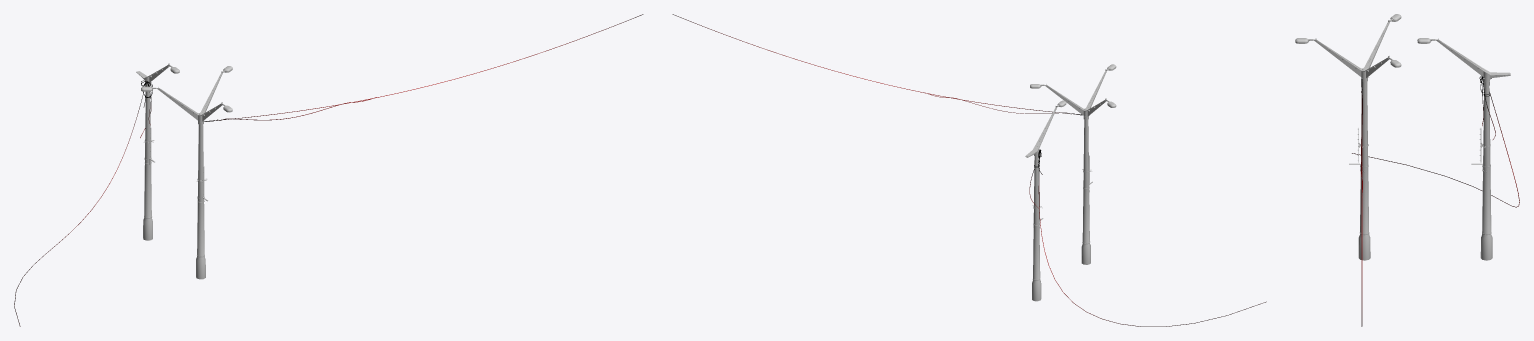
File: Lights_road.fbx
3 views of the same model, side by side, from view 1: azimuth 30°, elevation 25°; view 2: azimuth 150°, elevation 25°; view 3: azimuth 270°, elevation 25° (orthographic). The views are drawn at different scales.
Parts seen in each view (by area): view 1: LightPole_03, LightPole_01, PowerCable_02; view 2: LightPole_03, LightPole_01, PowerCable_02; view 3: LightPole_03, LightPole_01, PowerCable_02, PowerCable_04.
Part boxes in pixels (x1=…): LightPole_03: x1=141, y1=66, x2=232, y2=279; LightPole_01: x1=136, y1=63, x2=179, y2=240; PowerCable_02: x1=204, y1=14, x2=643, y2=121; LightPole_03: x1=1030, y1=64, x2=1116, y2=264; LightPole_01: x1=1025, y1=100, x2=1066, y2=301; PowerCable_02: x1=672, y1=14, x2=1082, y2=115; LightPole_03: x1=1295, y1=14, x2=1401, y2=260; LightPole_01: x1=1417, y1=38, x2=1510, y2=260; PowerCable_02: x1=1361, y1=79, x2=1362, y2=326; PowerCable_04: x1=1352, y1=76, x2=1519, y2=207.
Size of the model in its own units: 34277 by 10048 by 9184.
